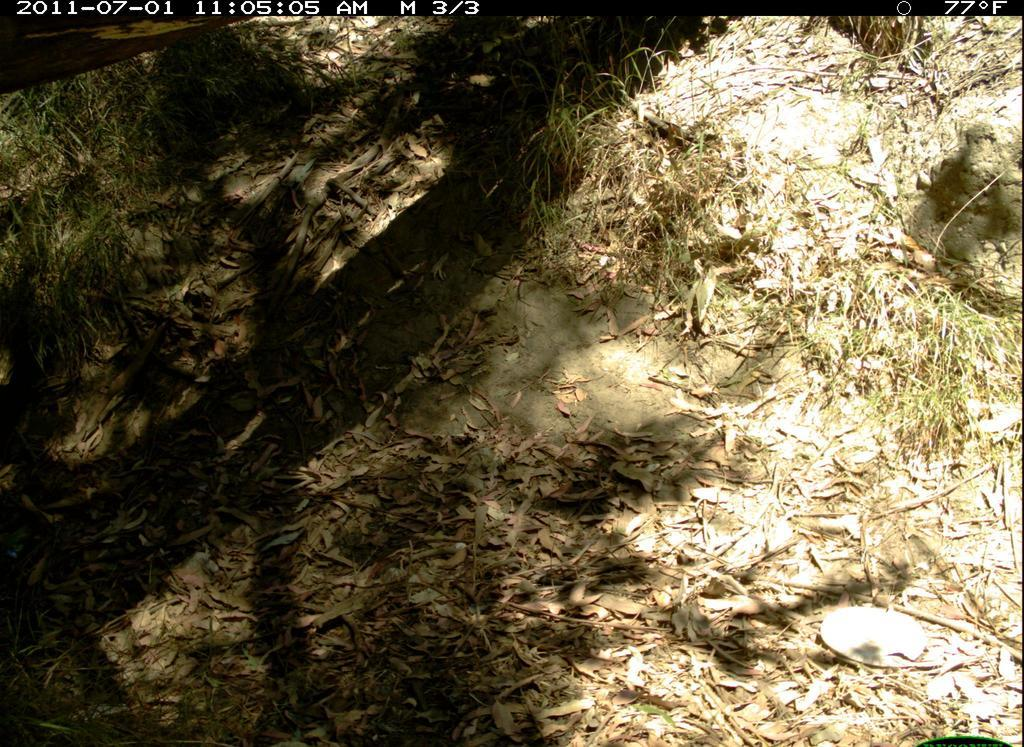bird: (1, 346, 62, 476)
